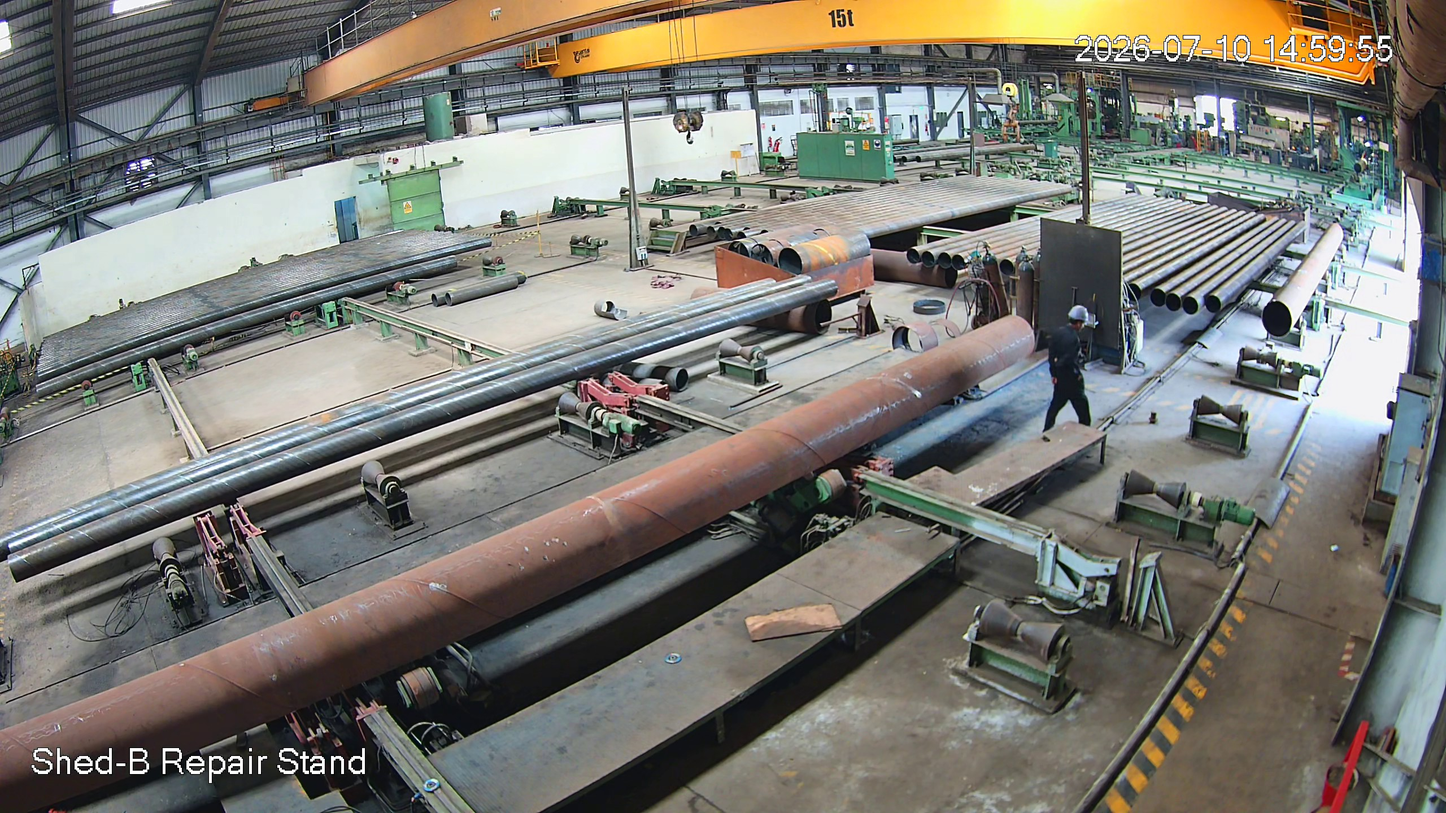Helmet: (1061, 303, 1101, 349)
Person: (1042, 305, 1094, 445)
